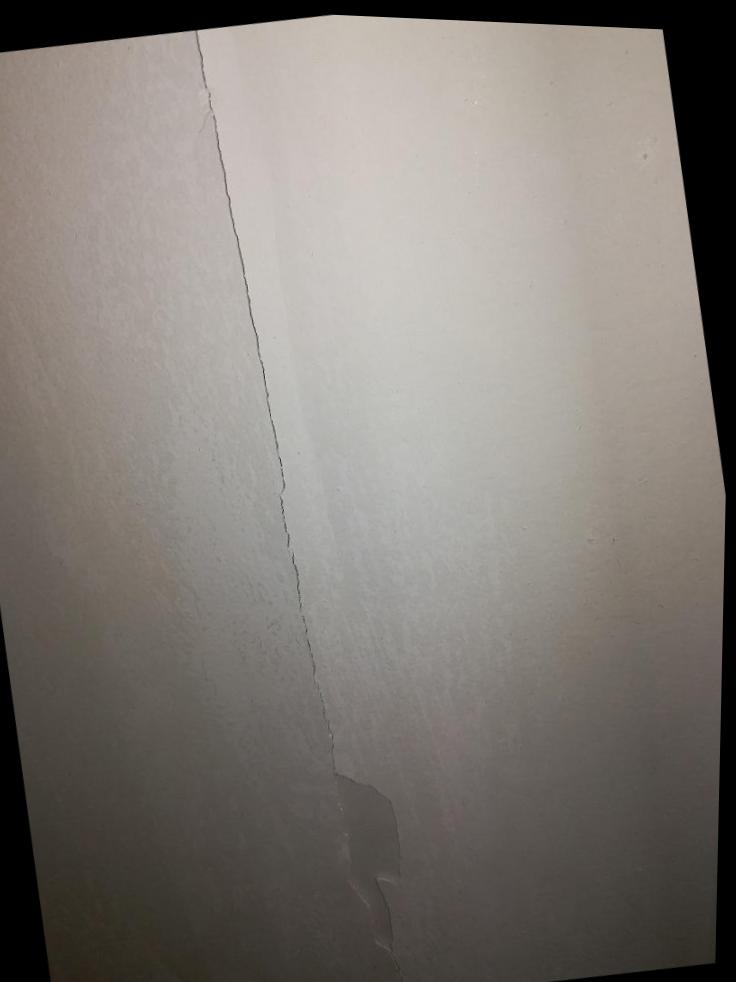crack: (197, 35, 340, 768)
